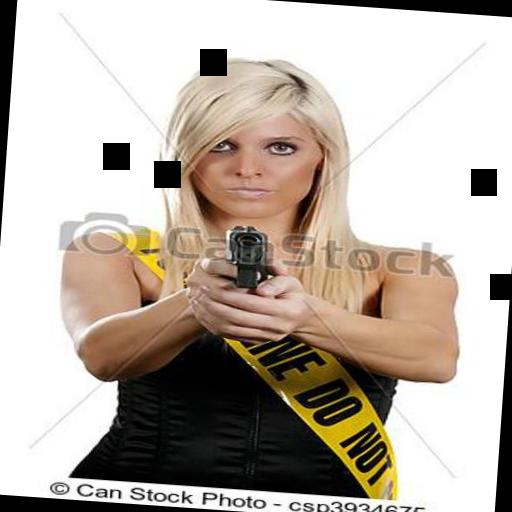Handgun: (220, 221, 275, 290)
